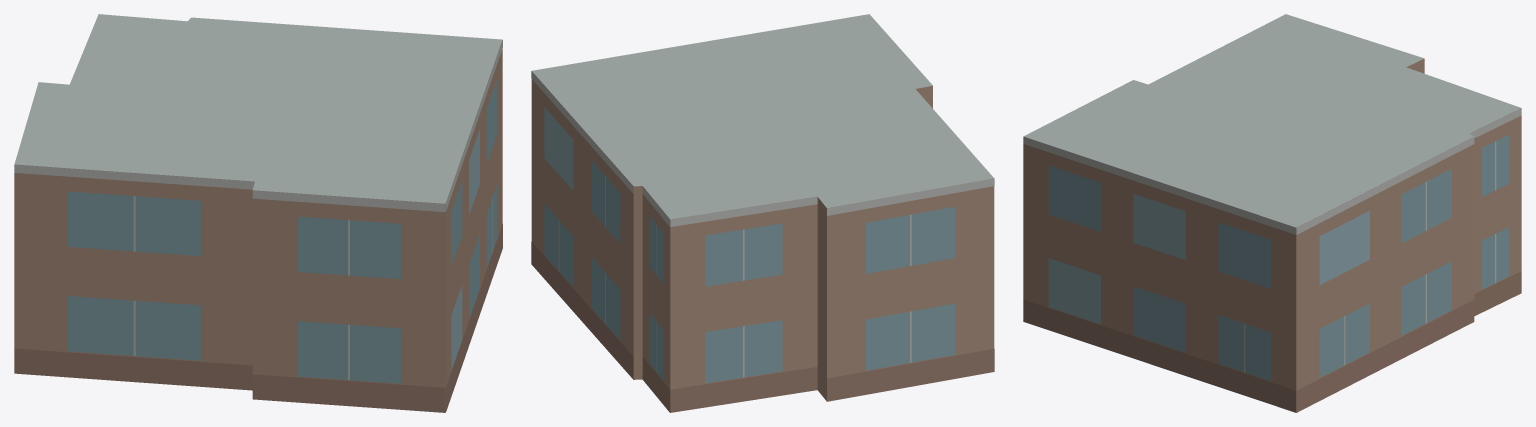
File: survey-upis-32670098.glb
3 views of the same model, side by side, from view 1: azimuth 30°, elevation 25°; view 2: azimuth 150°, elevation 25°; view 3: azimuth 270°, elevation 25° (orthographic). The views are drawn at different scales.
Visible parts, largest first — view 1: survey-upis-32670098.tmp; view 2: survey-upis-32670098.tmp; view 3: survey-upis-32670098.tmp.
Part boxes in pixels (box(x1,y1,x2,y2)): survey-upis-32670098.tmp: box(14, 14, 502, 412); survey-upis-32670098.tmp: box(531, 14, 994, 412); survey-upis-32670098.tmp: box(1023, 14, 1521, 412).
Size of the model in its own units: 15.1 by 6.1 by 14.88.
